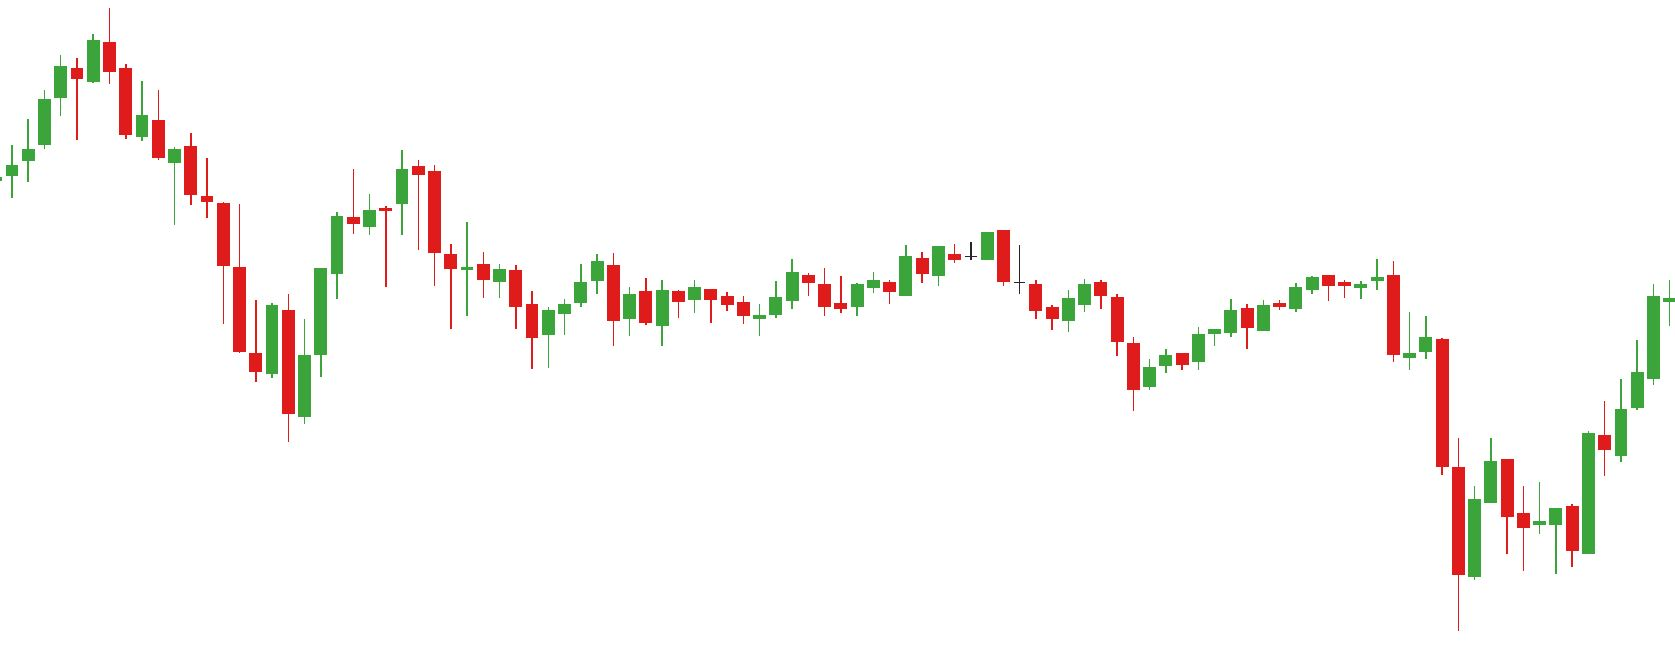buy: (440, 257, 555, 369)
